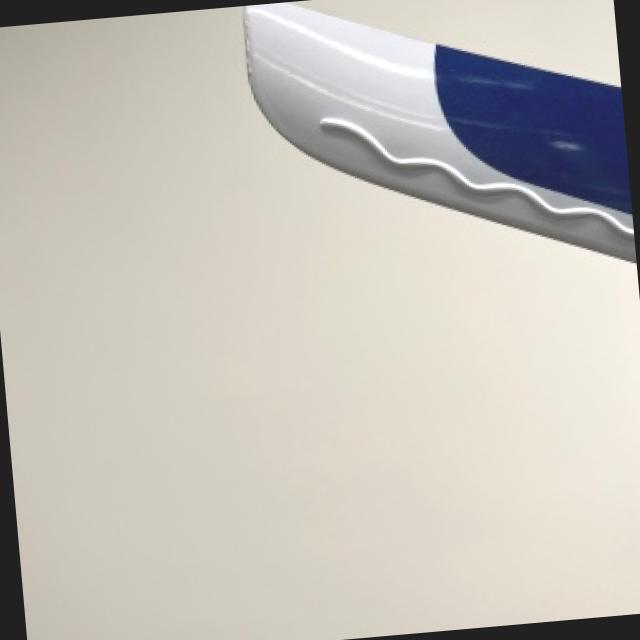healthy: (241, 1, 634, 258)
